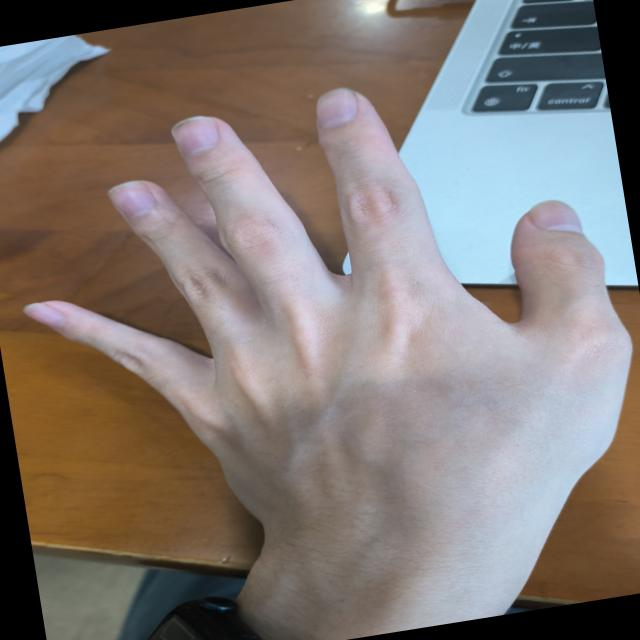Nail: (171, 116, 219, 154), (107, 182, 156, 217), (529, 201, 582, 233), (316, 89, 358, 128), (24, 303, 65, 327)
